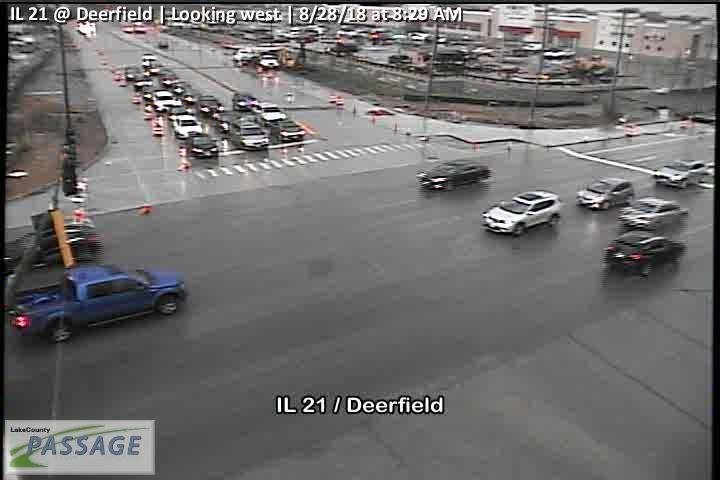SUV: (482, 188, 560, 239), (604, 232, 685, 276), (416, 158, 489, 191), (619, 197, 687, 228), (576, 178, 632, 209), (653, 158, 705, 188), (228, 120, 268, 149), (254, 104, 284, 125), (151, 91, 182, 109)
Sedan: (186, 131, 220, 159), (273, 119, 305, 141), (172, 116, 201, 138), (197, 95, 221, 115), (231, 94, 256, 109), (166, 104, 186, 116)
Truck: (8, 265, 186, 341)
